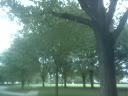window: (87, 24, 102, 53), (92, 77, 113, 96), (55, 39, 63, 63), (34, 46, 41, 68), (120, 15, 128, 33), (52, 83, 61, 95), (32, 88, 38, 96)
